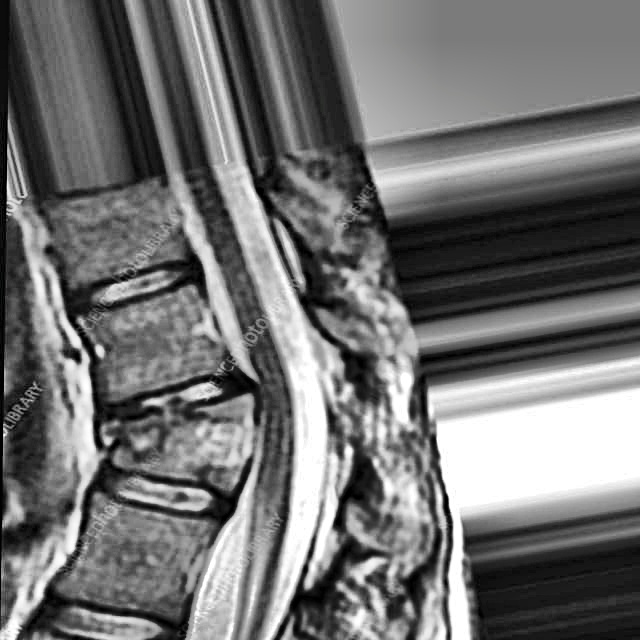Comminuted: (76, 367, 251, 473)
